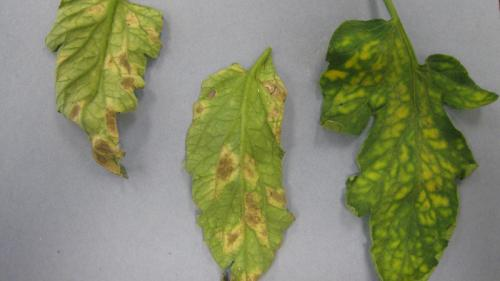Tomato mold leaf: (317, 12, 493, 281), (181, 58, 302, 281), (41, 1, 163, 171)
